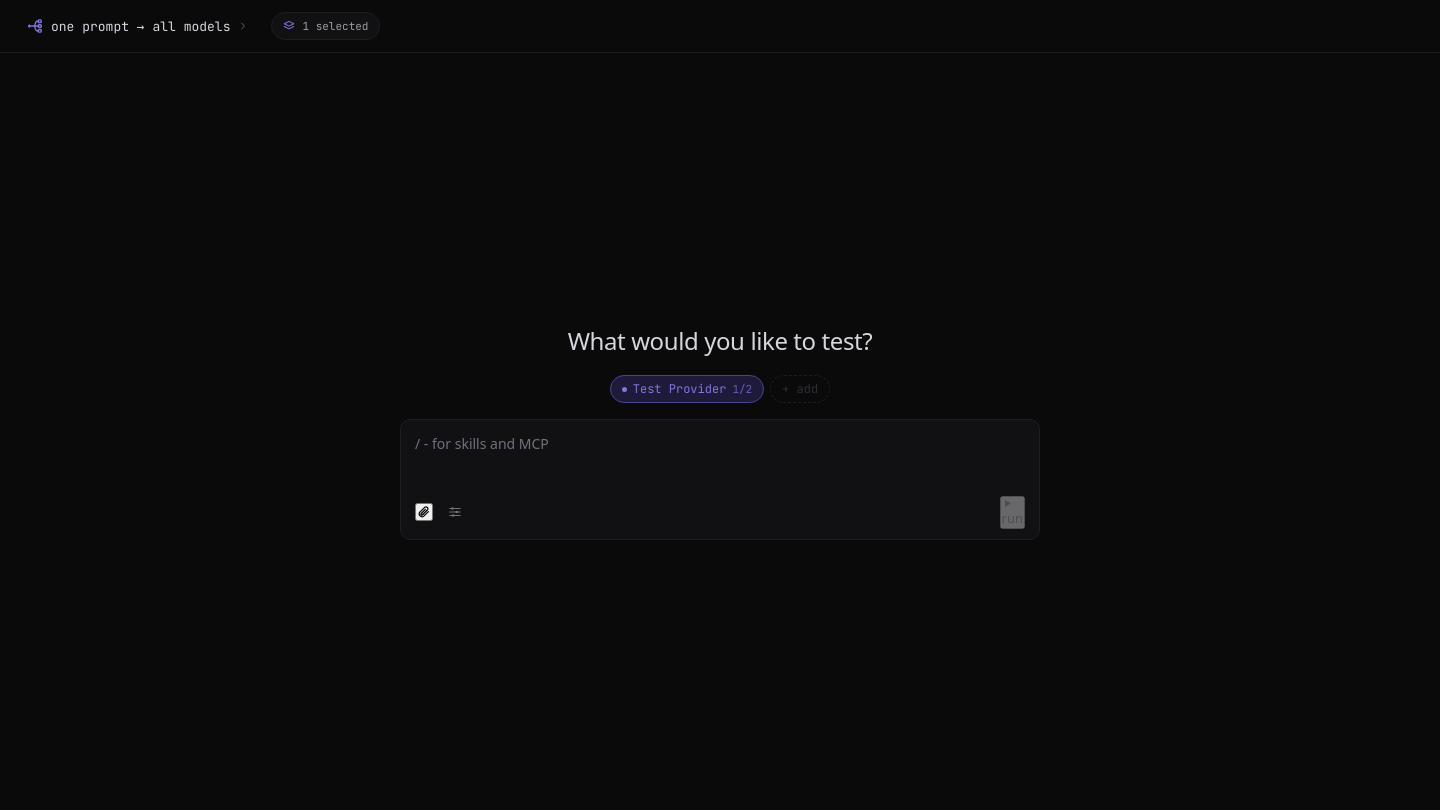
Test: ModeSelector — mode switching › switches to "prompt per model" mode when that option is picked
Click the button titled "Test mode": (138, 26) [16,10,259,42]
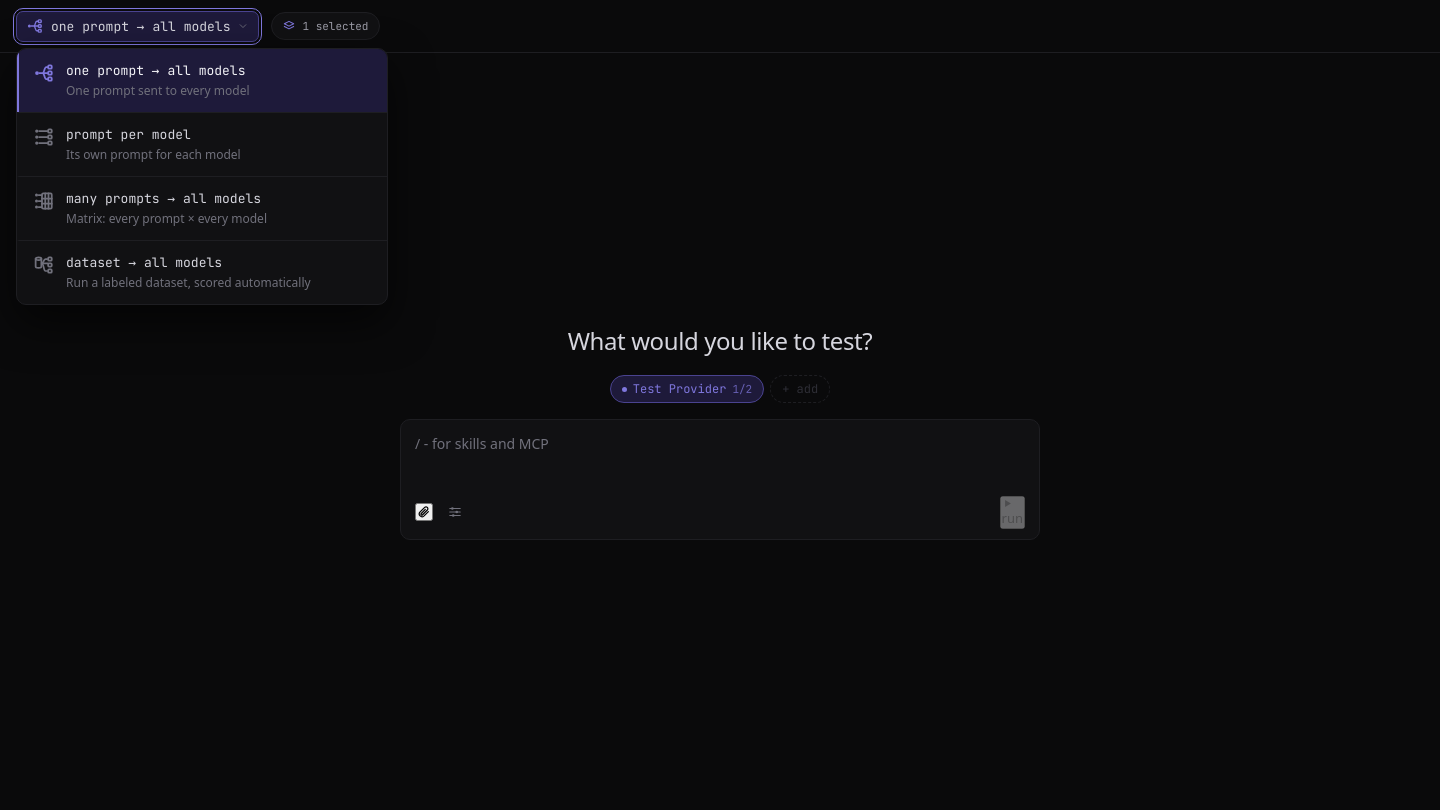
Click the option "prompt per model Its own prompt for each model": (202, 144) [17,112,387,176]
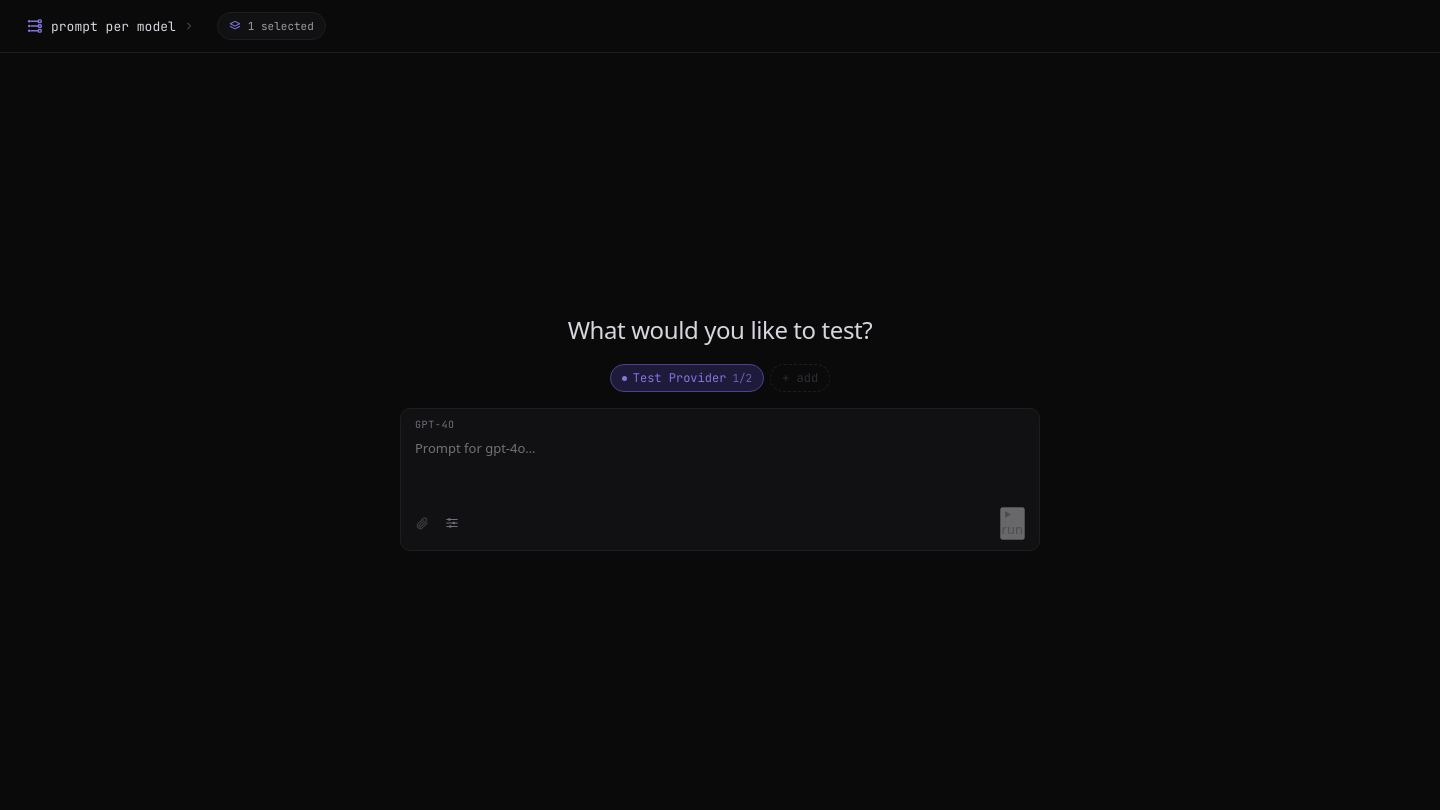
Expected: the field with placeholder "/ - for skills and MCP" is not shown
Result: the text box with placeholder "Prompt for gpt-4o…" is shown at [401,434,1039,491]
